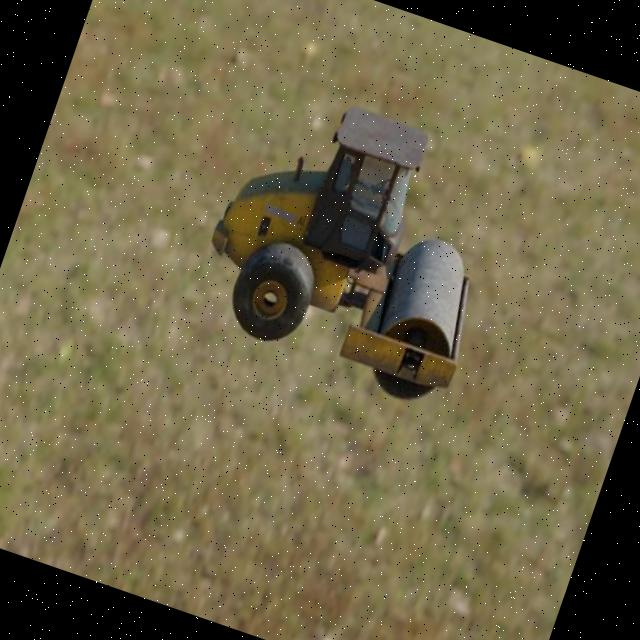Roller: (180, 75, 525, 414)
